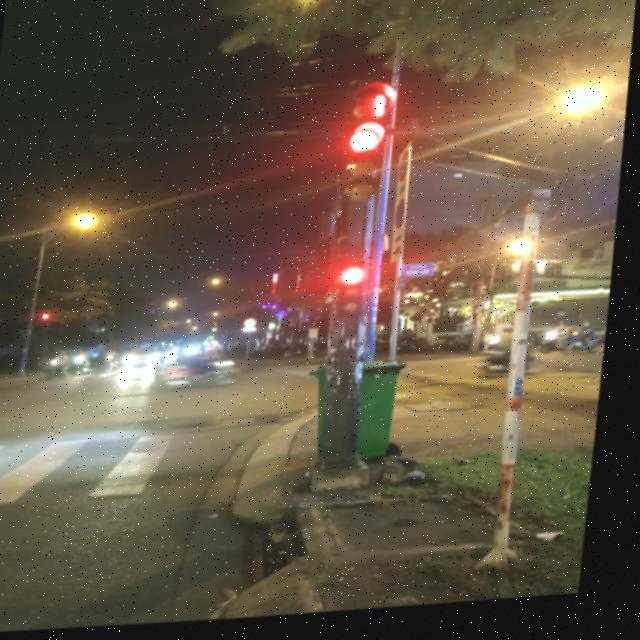Red: (332, 123, 395, 220), (331, 261, 380, 333)
